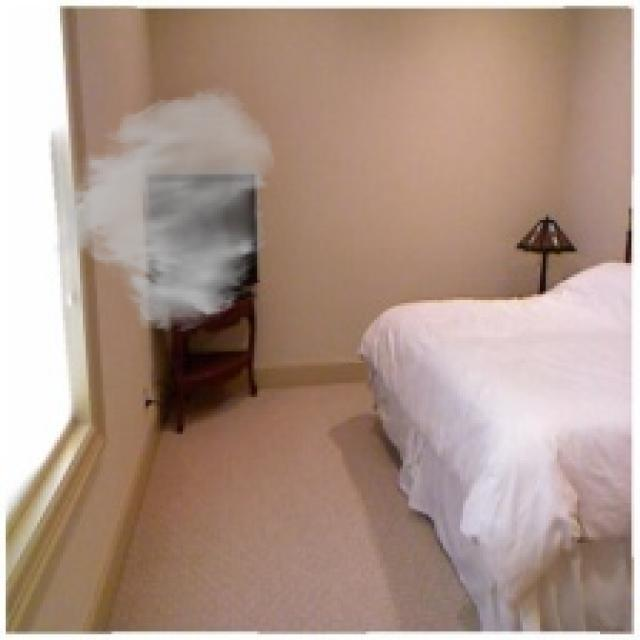Smoke: (51, 86, 278, 334)
